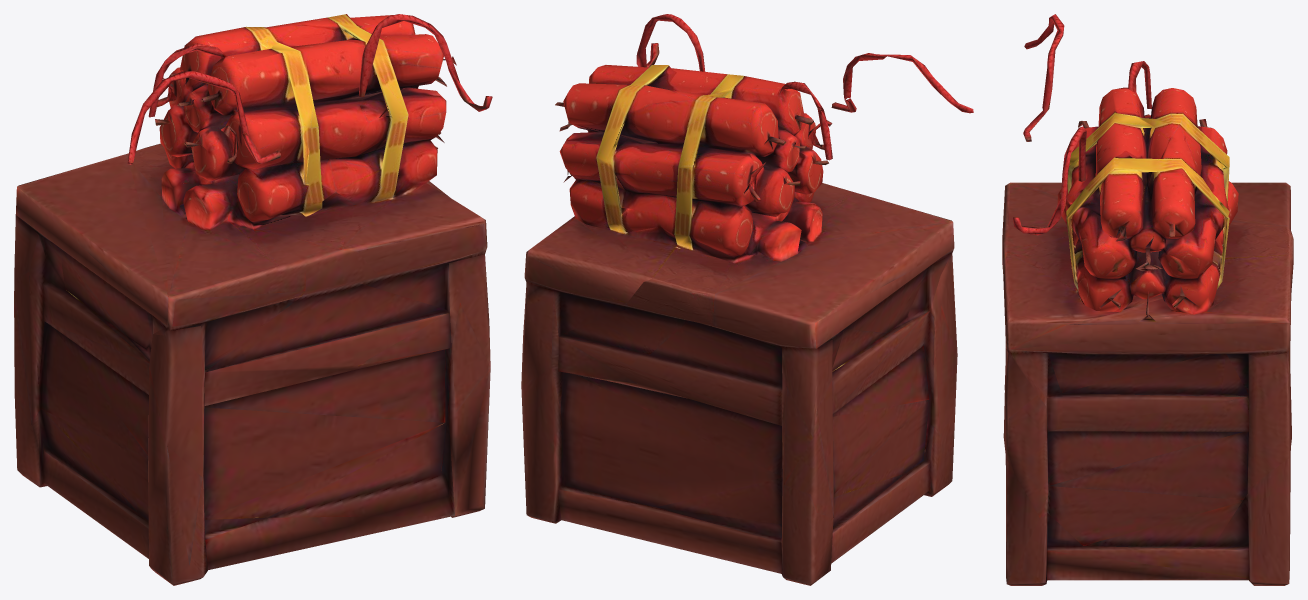
The model's file is tnt-crate.glb.
The picture shows the model from 3 angles, left to right: view 1: azimuth 30°, elevation 25°; view 2: azimuth 150°, elevation 25°; view 3: azimuth 270°, elevation 25°; orthographic projection. The views are drawn at different scales.
Bounding box in the file's own units: 1.56 × 1.89 × 1.13.
1 material, 1 textured.
